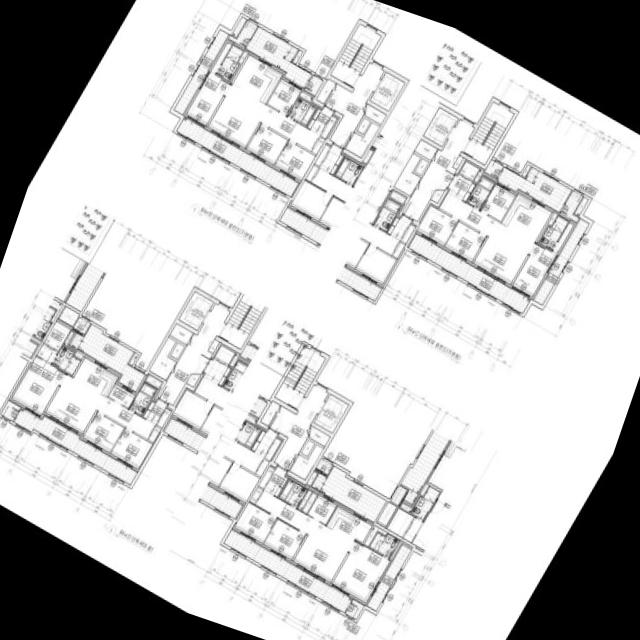background: (0, 0, 640, 640)
space_balconi: (223, 530, 352, 613), (176, 117, 297, 197), (408, 234, 529, 313), (13, 408, 137, 485), (533, 219, 588, 305), (174, 30, 228, 114), (77, 324, 144, 391), (245, 26, 311, 88), (319, 466, 386, 522), (497, 167, 571, 212), (367, 544, 411, 611)
space_bedroom: (512, 222, 573, 297), (185, 42, 231, 125), (331, 541, 389, 603), (11, 356, 65, 415), (263, 519, 305, 560), (234, 502, 276, 543), (110, 429, 151, 469), (274, 141, 315, 181), (416, 205, 457, 245), (444, 222, 485, 262), (82, 413, 123, 452), (246, 125, 287, 164), (480, 184, 515, 221), (266, 79, 300, 115)
space_dressroom: (36, 321, 70, 363)
space_elevator: (313, 394, 348, 433), (422, 107, 457, 146), (369, 72, 404, 111), (178, 292, 213, 330)
space_elevator_hall: (402, 119, 474, 221), (157, 303, 229, 405), (324, 62, 383, 148), (268, 385, 327, 470)
space_front: (306, 106, 336, 138), (447, 174, 475, 203), (263, 466, 288, 498), (142, 399, 166, 424)
space_kitchen: (231, 55, 282, 104), (501, 193, 551, 242), (73, 358, 118, 397), (325, 506, 371, 542)
space_living_room: (255, 491, 352, 582), (438, 193, 534, 284), (207, 85, 325, 154), (45, 375, 154, 439)
space_other: (289, 445, 323, 480), (345, 123, 379, 158), (393, 154, 420, 196), (149, 338, 176, 380), (307, 495, 336, 524), (108, 384, 134, 408), (537, 213, 556, 242), (230, 51, 247, 82), (363, 526, 386, 547), (260, 401, 279, 425), (316, 79, 335, 103), (170, 324, 192, 344), (414, 140, 436, 160), (58, 306, 79, 326), (309, 426, 330, 446), (0, 401, 20, 421), (365, 104, 385, 124), (304, 75, 323, 96), (459, 161, 479, 180), (484, 160, 503, 178), (345, 600, 363, 619), (258, 467, 274, 488), (231, 17, 246, 37), (302, 492, 316, 513), (297, 490, 311, 510), (311, 473, 326, 491), (156, 408, 170, 427), (574, 197, 588, 216), (69, 333, 83, 349), (300, 440, 314, 456), (356, 118, 370, 134), (414, 159, 428, 175), (170, 343, 183, 359), (249, 487, 262, 503), (148, 426, 160, 442), (186, 374, 200, 387), (430, 190, 444, 203), (145, 376, 160, 388), (208, 339, 219, 353), (306, 472, 317, 486), (452, 155, 463, 169), (63, 331, 73, 346), (299, 91, 312, 102), (292, 50, 302, 63), (473, 169, 482, 183), (128, 353, 137, 365), (521, 165, 530, 177), (74, 352, 83, 359)
space_outdoor_room: (228, 20, 257, 48), (560, 191, 582, 222), (73, 317, 90, 334), (315, 458, 332, 474)
space_staircase: (274, 346, 325, 409), (219, 286, 269, 349), (330, 24, 380, 87), (463, 102, 513, 165)
space_toilet: (216, 45, 243, 81), (539, 216, 567, 250), (129, 382, 156, 415), (467, 176, 494, 209), (52, 346, 80, 375), (288, 97, 316, 126), (278, 479, 307, 507), (369, 532, 398, 558)
